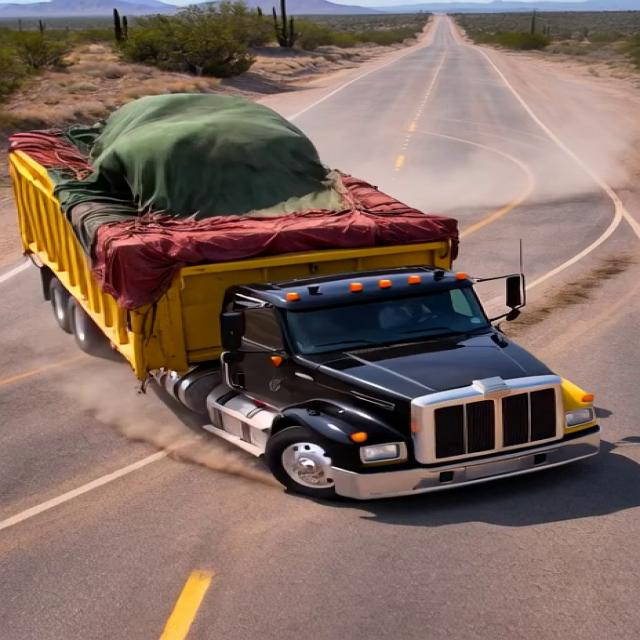trailer: (0, 122, 457, 264)
